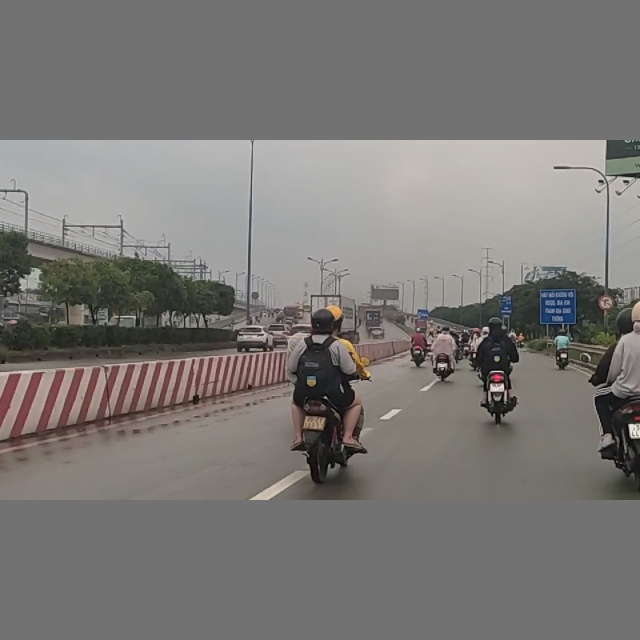P.123b: (599, 295, 615, 312)
